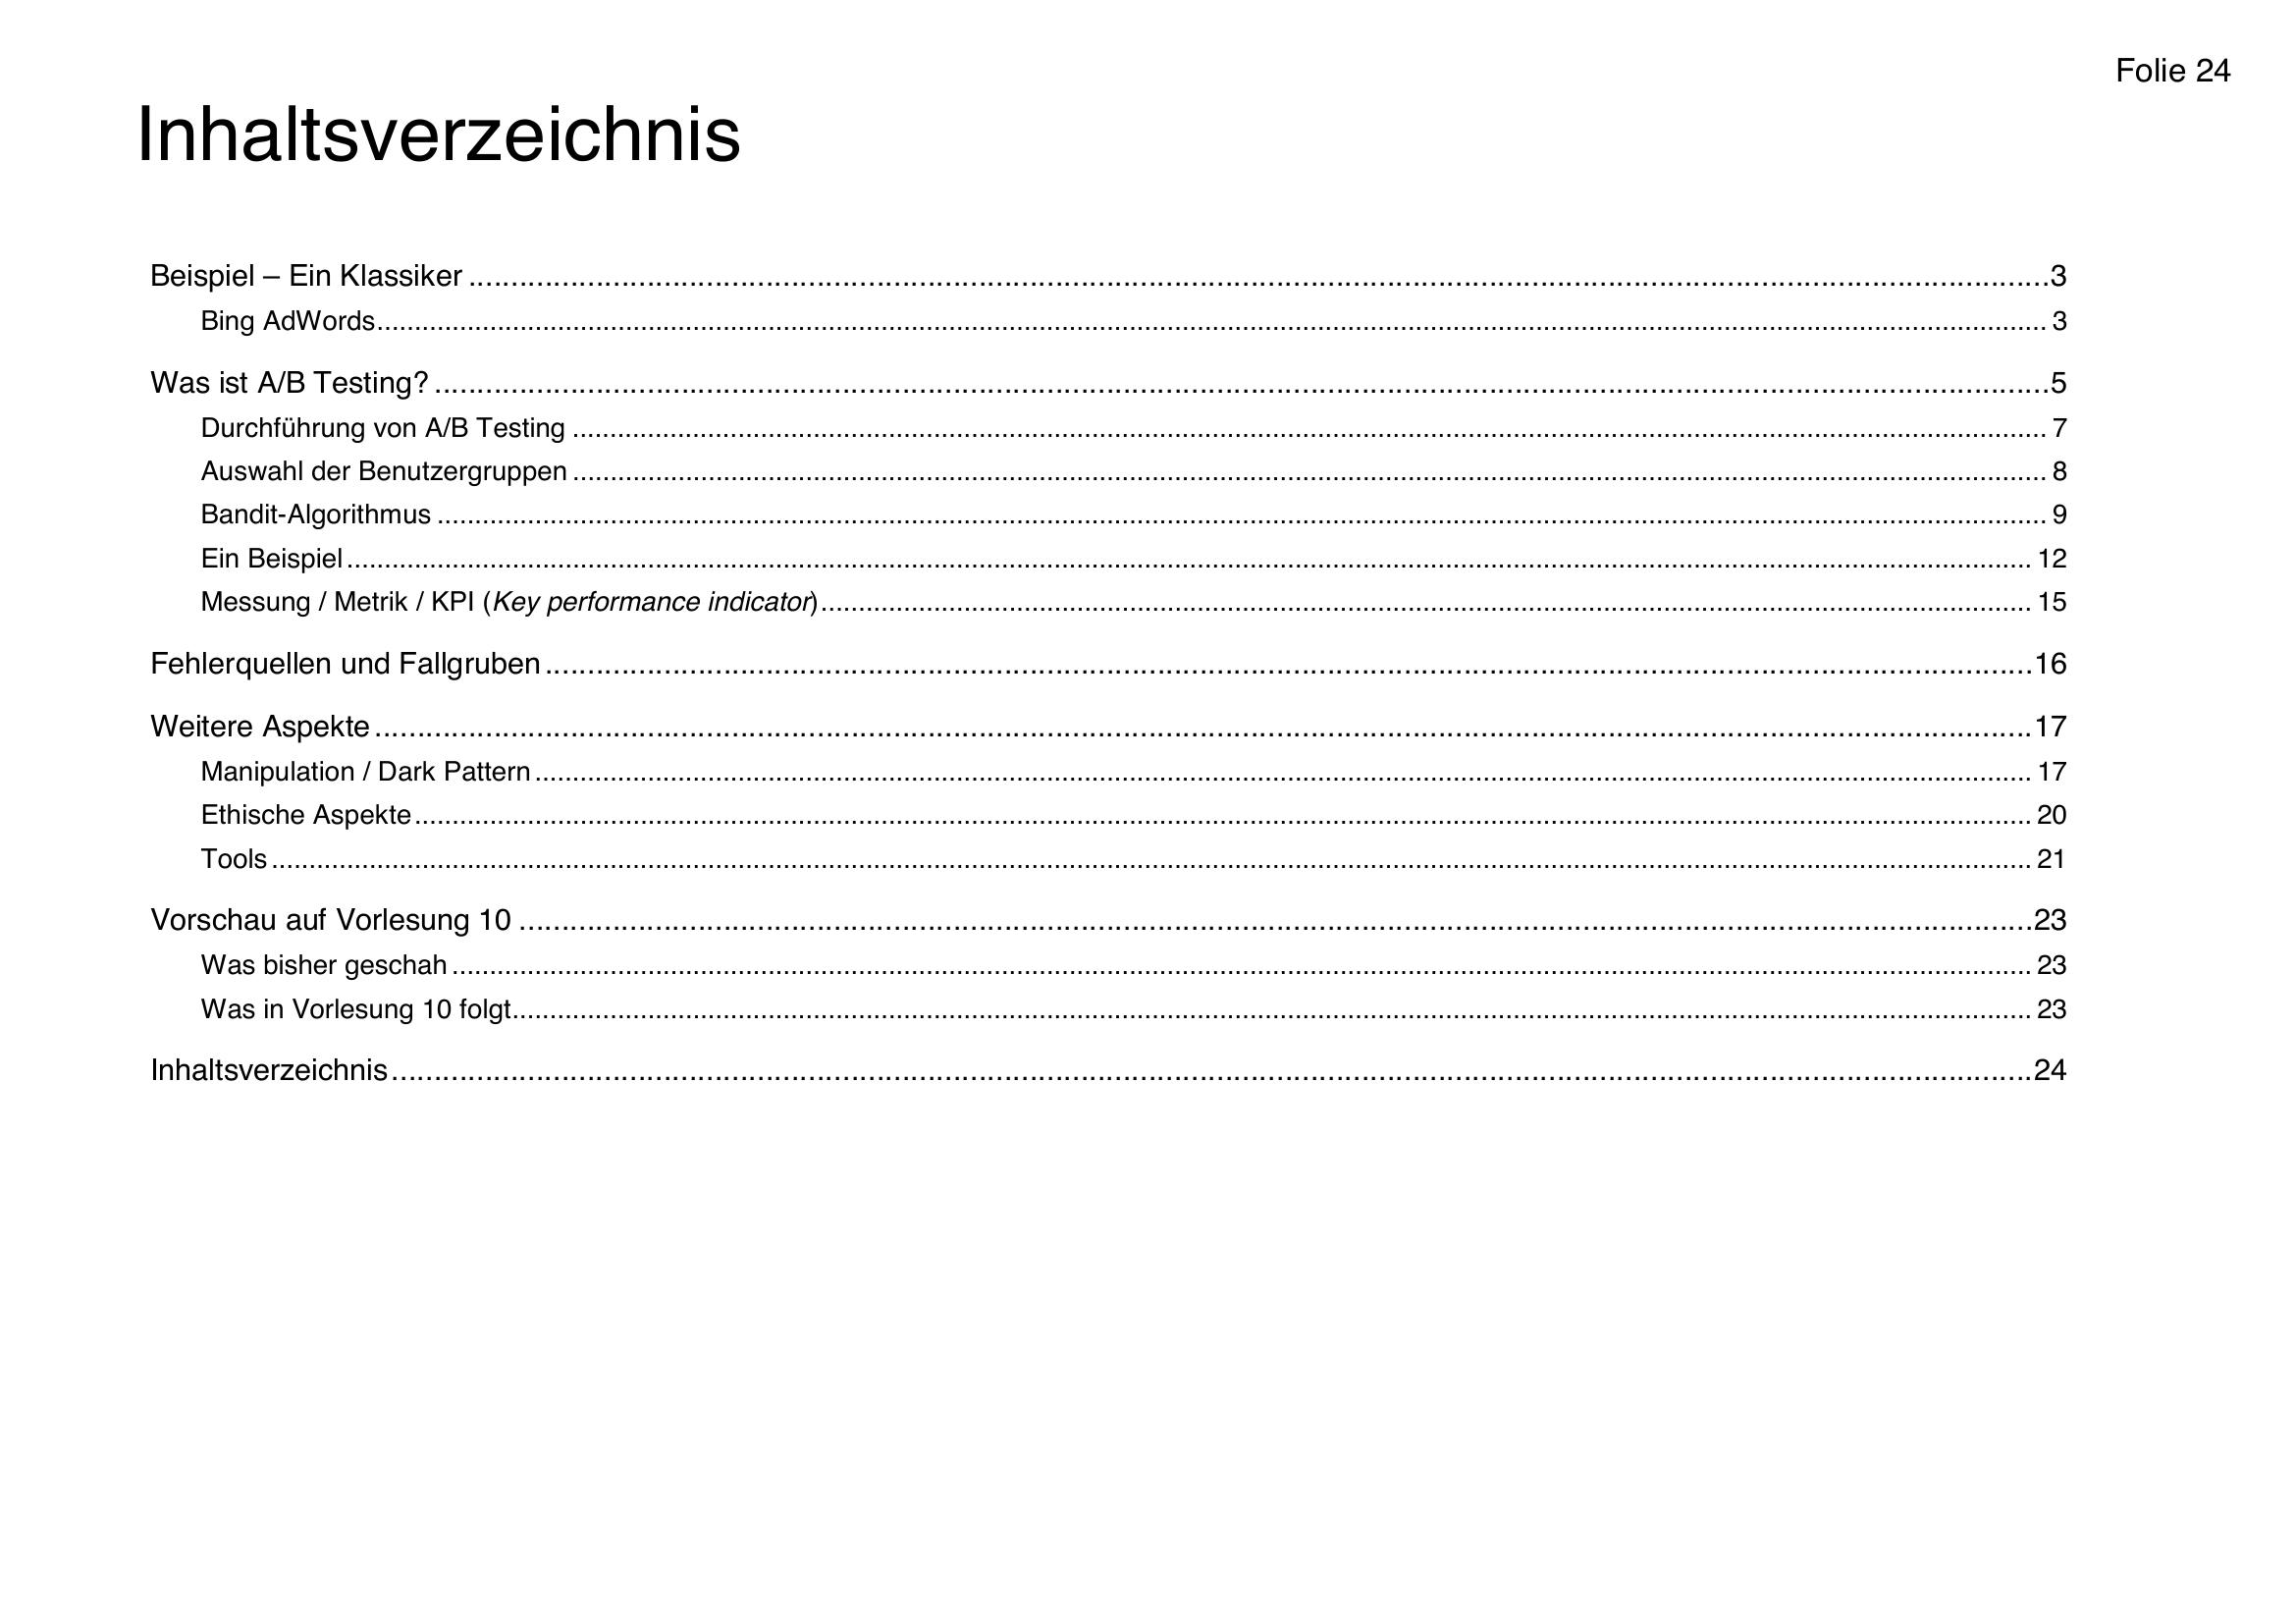Title: (91, 86, 776, 184)
